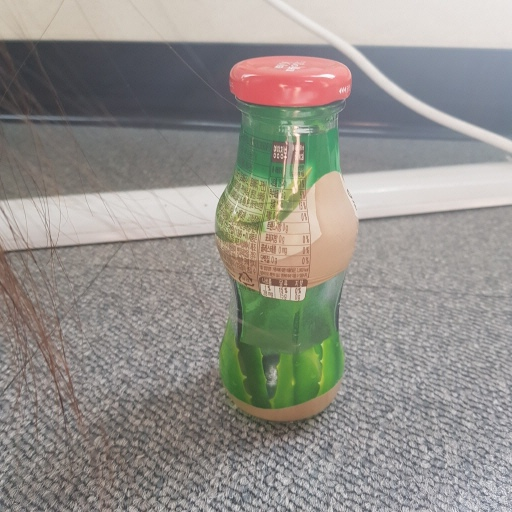Glass_4: (211, 48, 364, 421)
